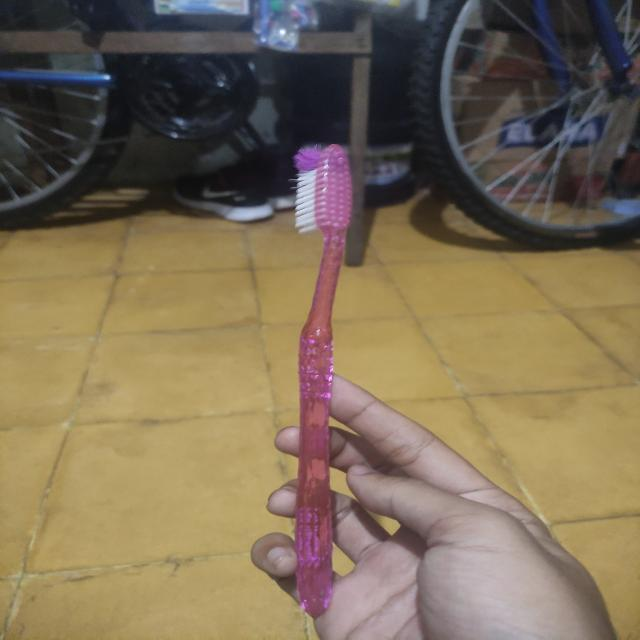toothbrush: (268, 134, 368, 624)
